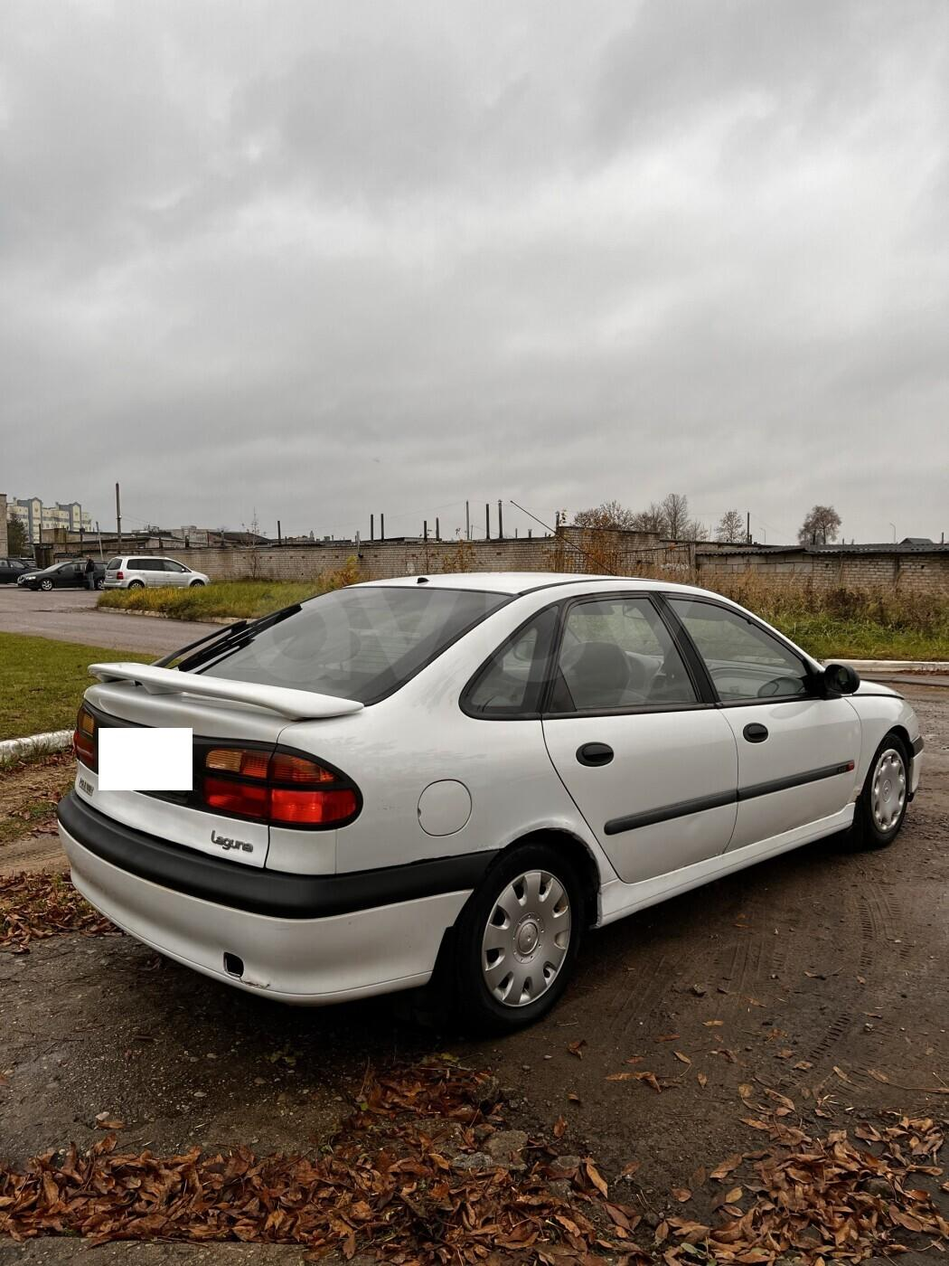Laguna_1998-2001: (63, 561, 924, 1033)
